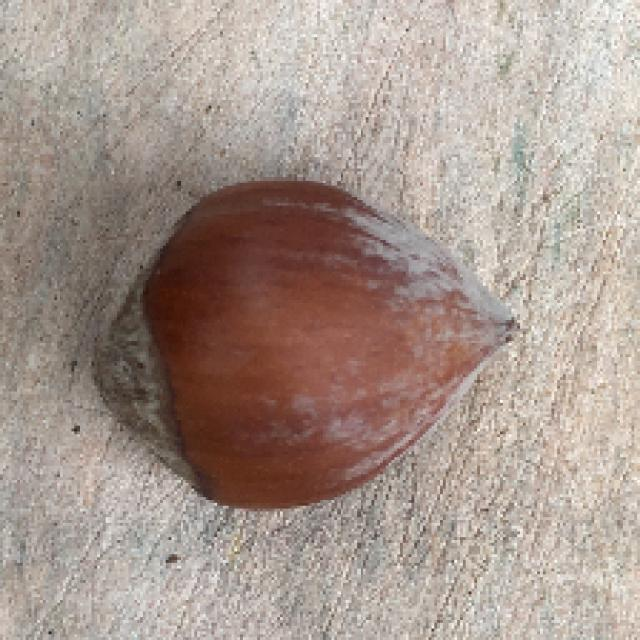QualityHazelnut: (92, 180, 524, 514)
